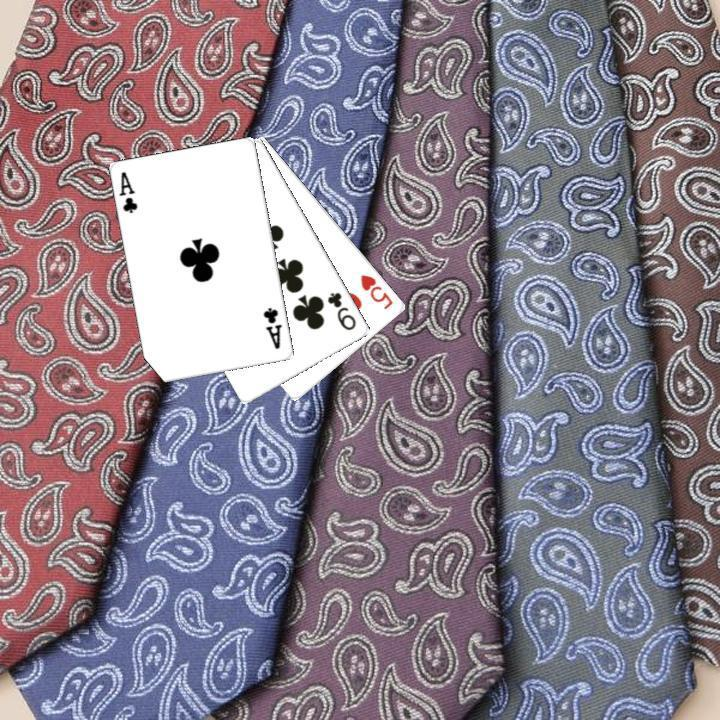5: (356, 270, 395, 312)
9: (323, 288, 358, 332)
A: (259, 303, 284, 351), (115, 168, 140, 216)
